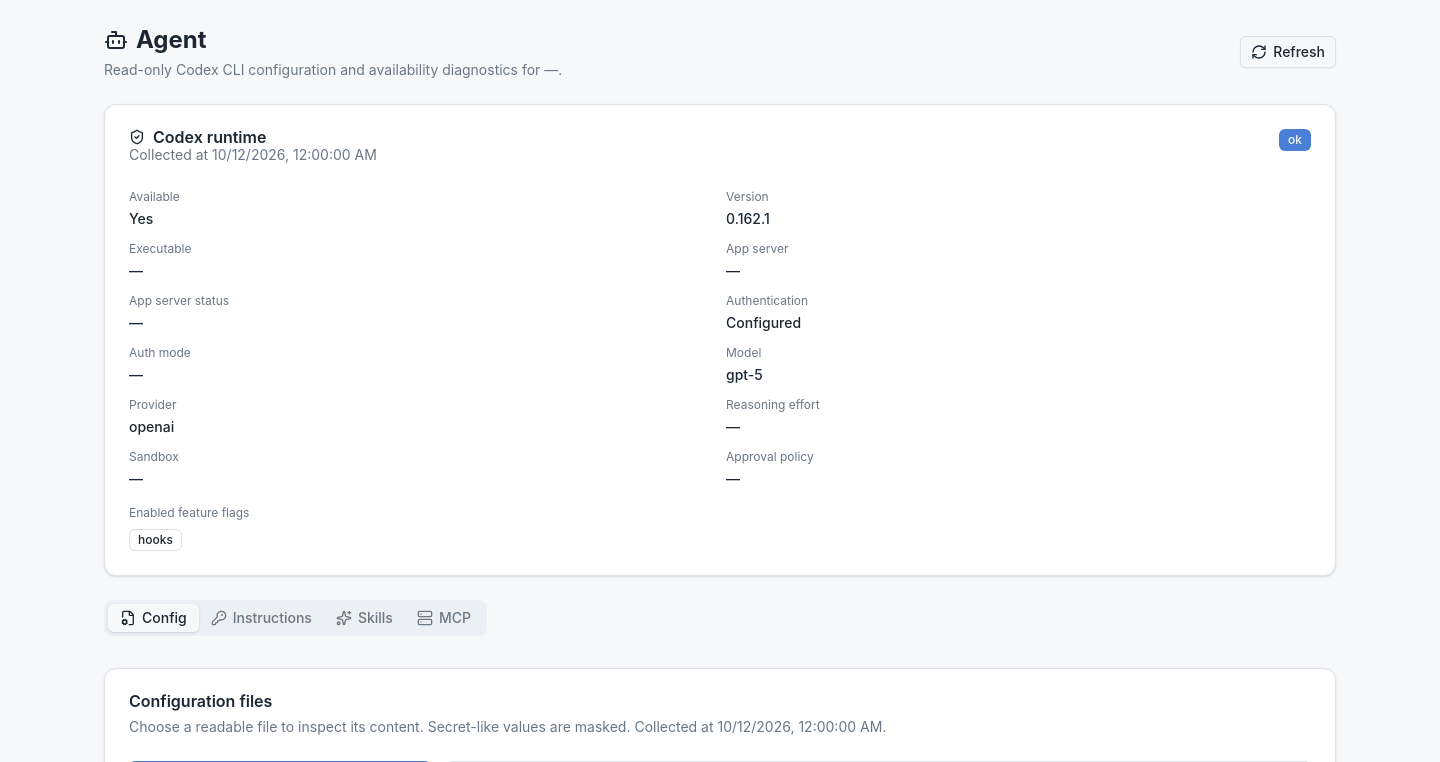
it: CodexDiagnosticsPage › shows when a Skill directory listing is truncated
This screenshot has width=1440, height=762.
Check: the text "0.162.1" is shown, box [726,210,770,227]
Click the tab "Skills".
click(364, 618)  # box [324,604,405,632]
(page scrolled)
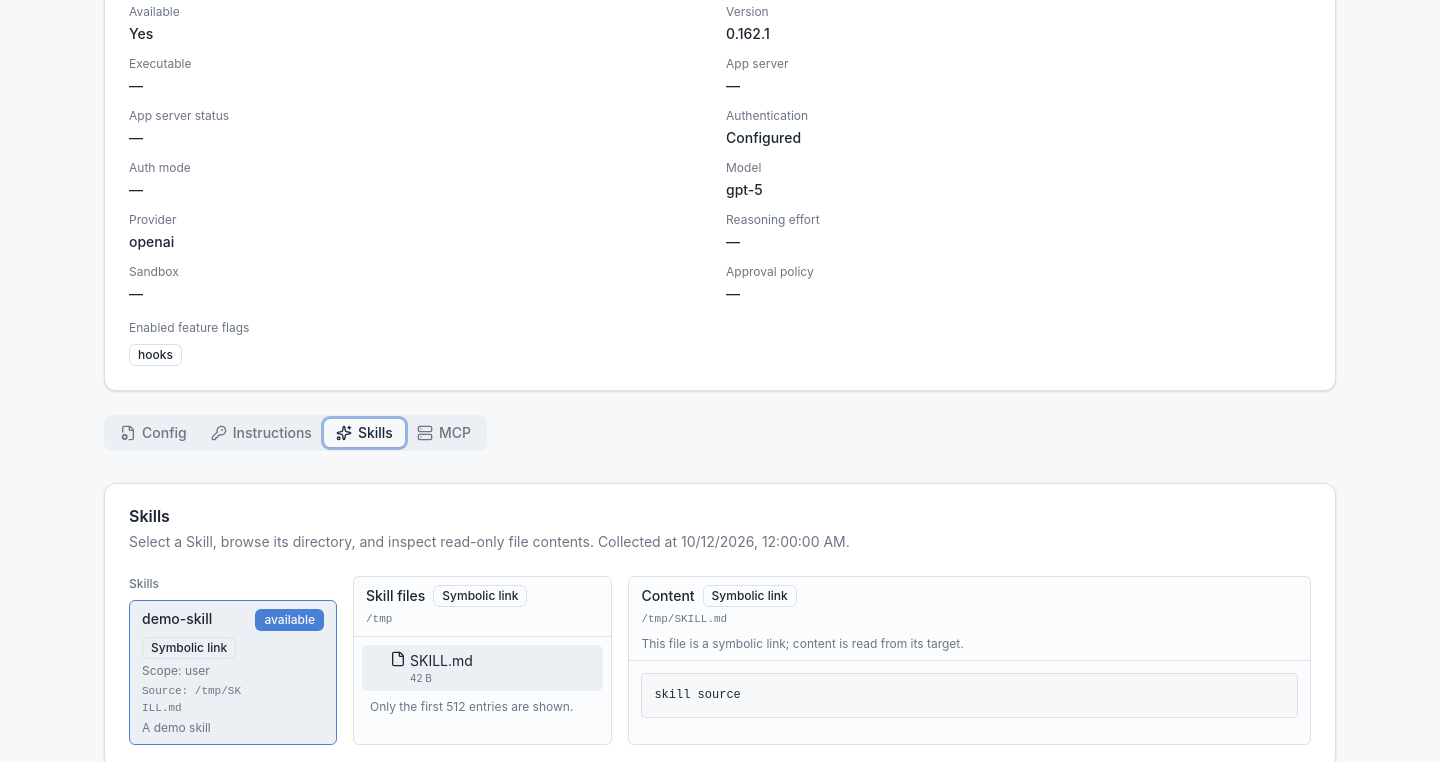
Check: the text "Only the first 512 entries are shown." is shown, box [370,699,573,714]
